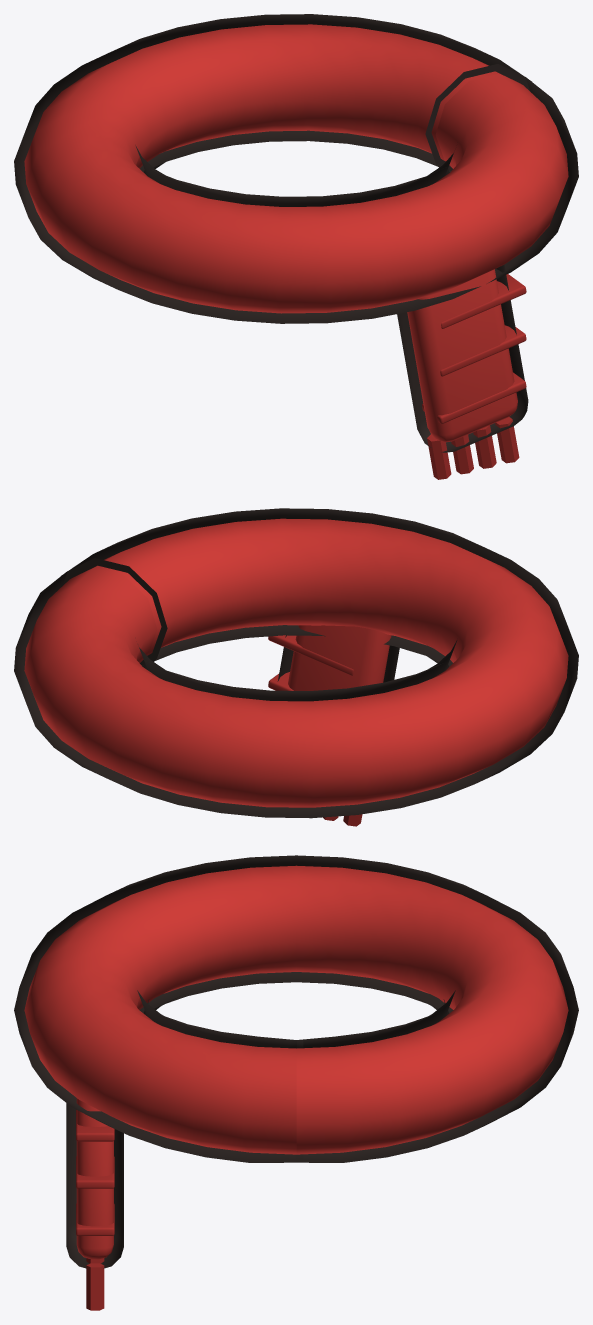
The model's file is col_scarf.fbx.
3 views of the same model, one above another, from view 1: azimuth 30°, elevation 25°; view 2: azimuth 150°, elevation 25°; view 3: azimuth 270°, elevation 25° (orthographic).
Visible parts, largest first — view 1: col_scarf_C_C9342F, col_scarf_Outline, col_scarf_C_A82A26; view 2: col_scarf_C_C9342F, col_scarf_Outline, col_scarf_C_A82A26; view 3: col_scarf_C_C9342F, col_scarf_Outline, col_scarf_C_A82A26.
Boxes of the visible parts, <box> form: col_scarf_C_C9342F: <box>24,24,568,442</box>; col_scarf_Outline: <box>14,14,578,452</box>; col_scarf_C_A82A26: <box>422,274,526,479</box>; col_scarf_C_C9342F: <box>24,518,568,807</box>; col_scarf_Outline: <box>14,508,578,818</box>; col_scarf_C_A82A26: <box>268,635,362,826</box>; col_scarf_C_C9342F: <box>24,865,568,1259</box>; col_scarf_Outline: <box>14,855,578,1268</box>; col_scarf_C_A82A26: <box>76,1109,114,1310</box>.
Size of the model in its own units: 0.7552 by 0.443 by 0.758.
